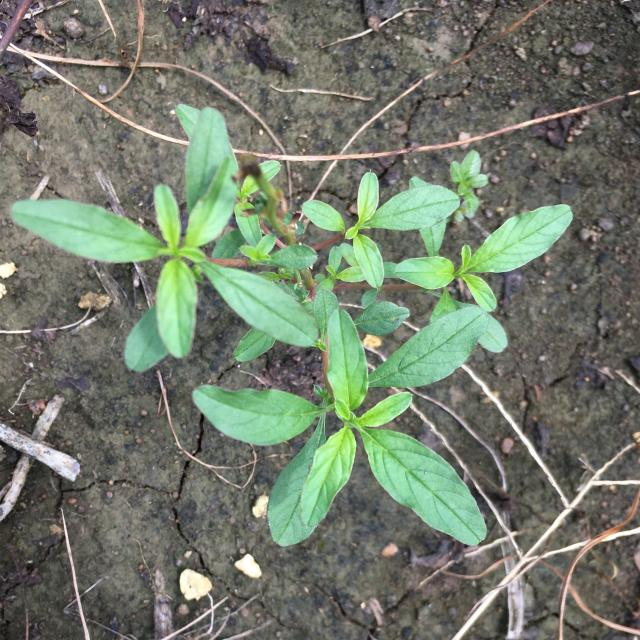Waterhemp: (10, 103, 574, 547)
